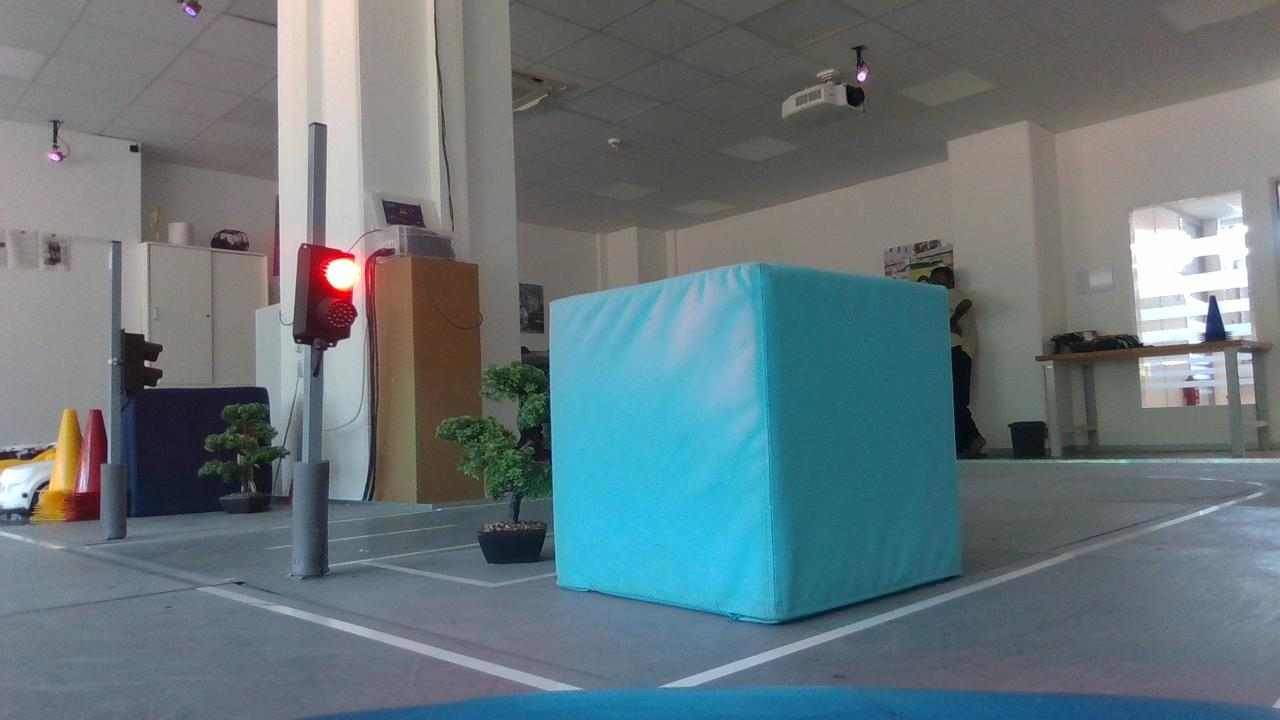traffic_light_red: (275, 233, 369, 351)
